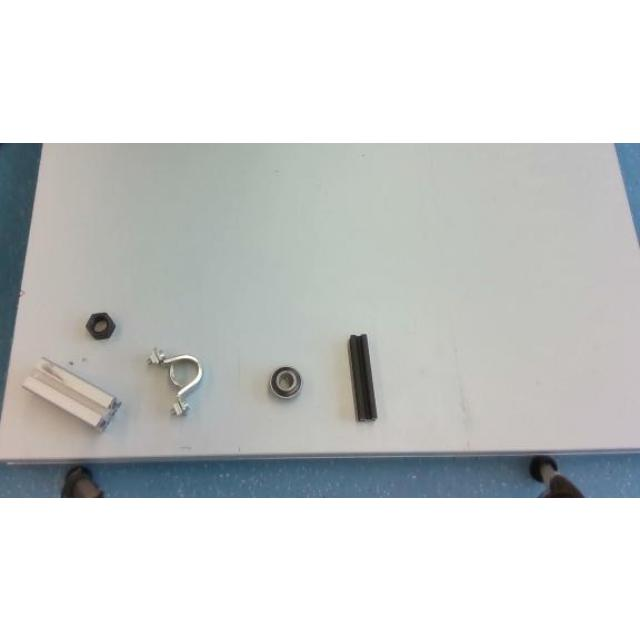Bearing2: (270, 365, 302, 397)
F20_20_B: (348, 332, 377, 420)
Housing: (146, 345, 202, 415)
M20: (86, 311, 114, 339)
S40_40_G: (22, 356, 120, 426)
